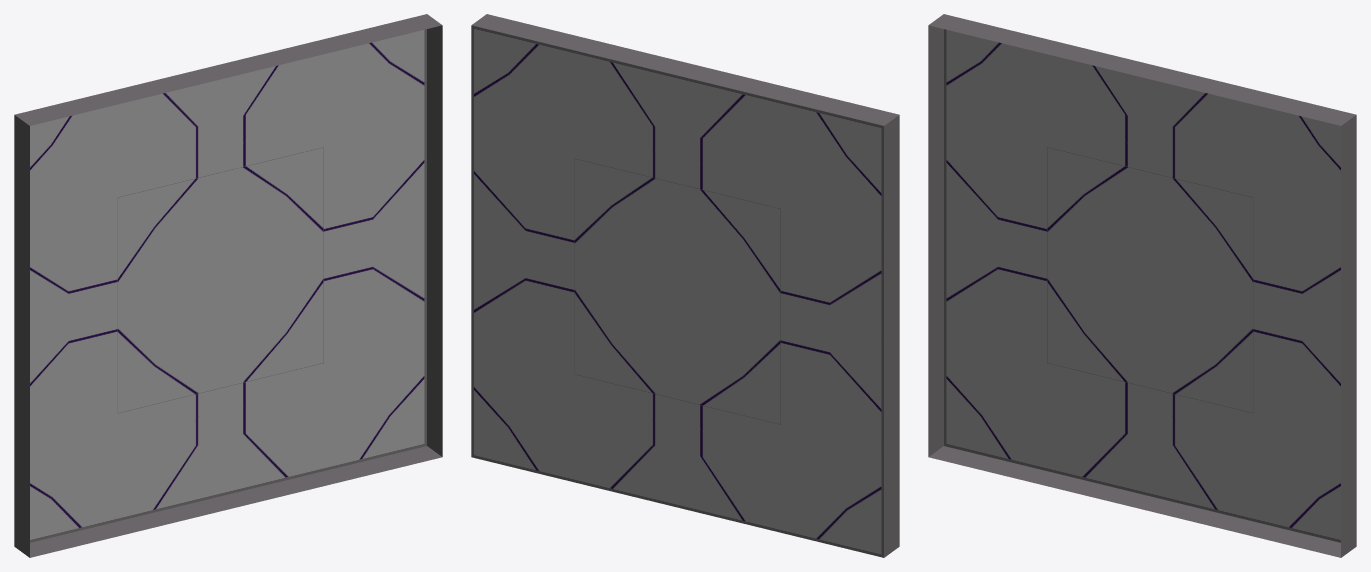
File: KF_SM_BigPlane2.fbx
3 views of the same model, side by side, from view 1: azimuth 30°, elevation 25°; view 2: azimuth 150°, elevation 25°; view 3: azimuth 330°, elevation 25° (orthographic).
Parts seen in each view (by area): view 1: KF_SM_BigPlane2; view 2: KF_SM_BigPlane2; view 3: KF_SM_BigPlane2.
Part boxes in pixels (x1,y1,x2,y2): KF_SM_BigPlane2: (14,14,442,557); KF_SM_BigPlane2: (471,14,899,557); KF_SM_BigPlane2: (928,14,1356,557).
Bounding box in the file's own units: 5000 × 324 × 5000.
